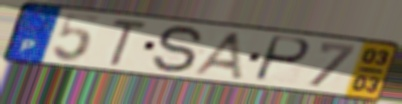5: (50, 10, 107, 64)
7: (308, 40, 359, 90)
A: (188, 30, 245, 81)
P: (251, 34, 314, 85)
S: (150, 24, 206, 75)
T: (105, 17, 150, 68)
